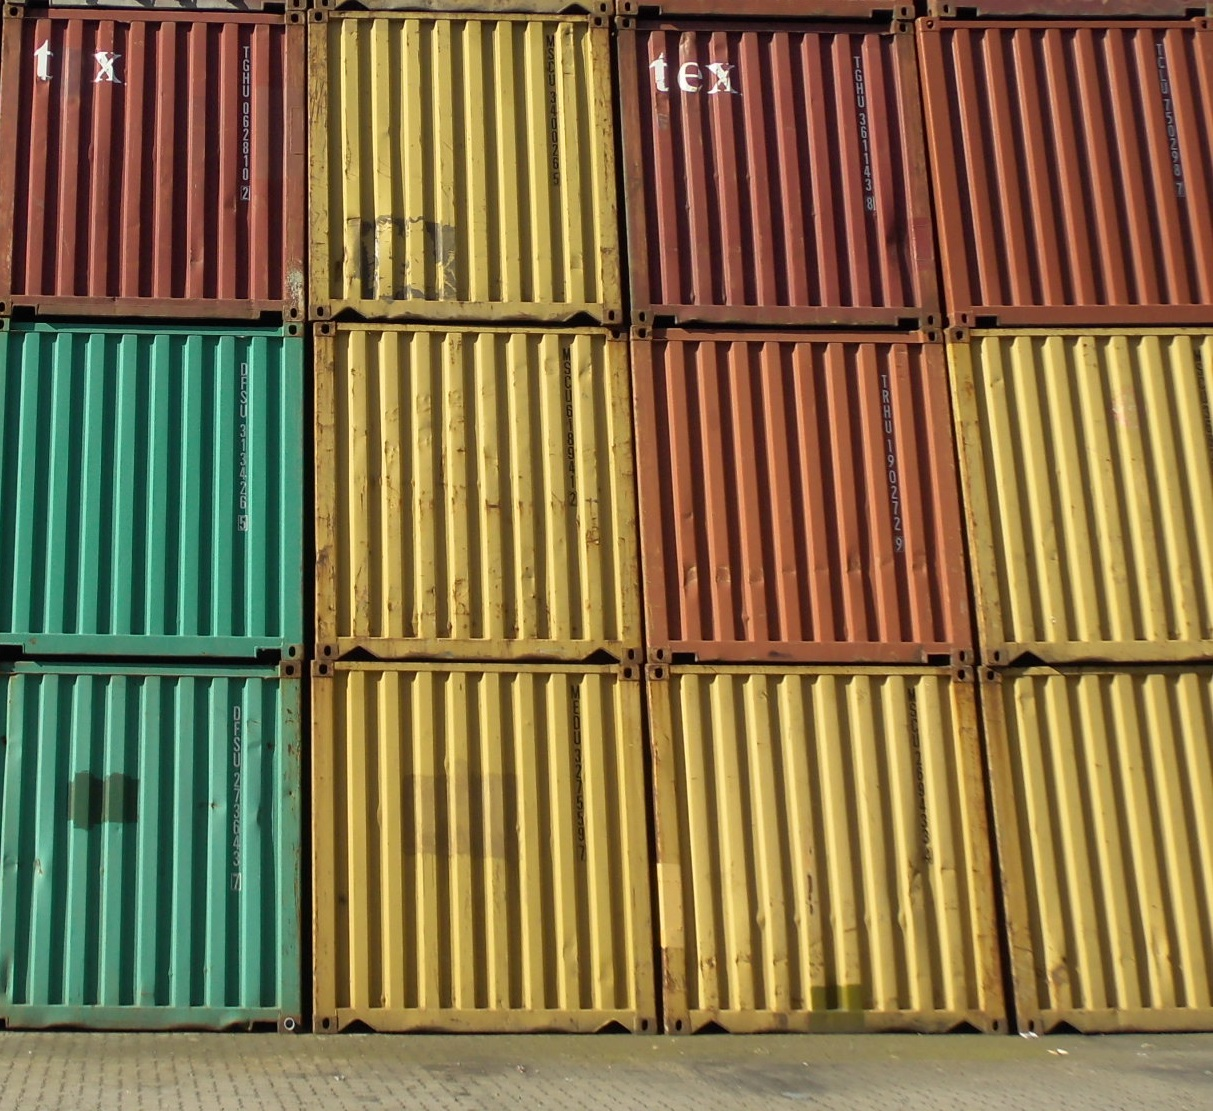container_no_door: (307, 664, 658, 1035), (654, 663, 1003, 1034), (627, 322, 968, 660), (304, 322, 646, 660), (1, 660, 305, 1035), (1, 311, 303, 655), (629, 11, 941, 335), (306, 11, 629, 325), (3, 13, 303, 313), (951, 326, 1213, 665), (943, 14, 1212, 321), (1007, 665, 1212, 1030)
